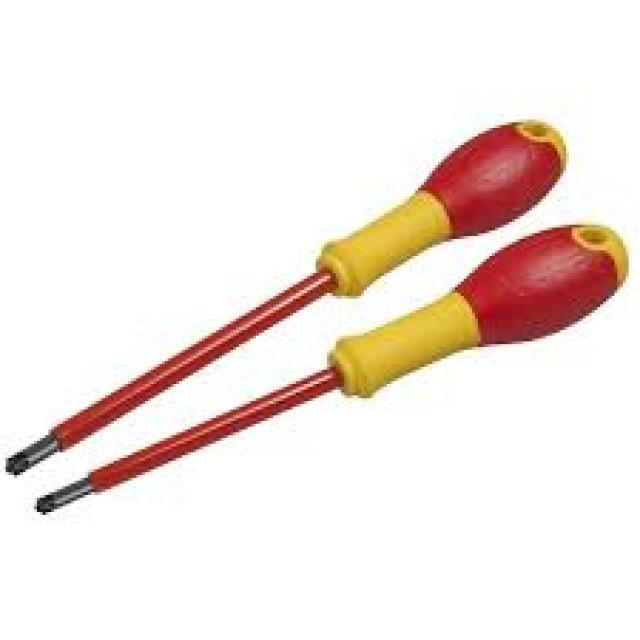screwdriver: (4, 110, 570, 477), (30, 216, 633, 518)
